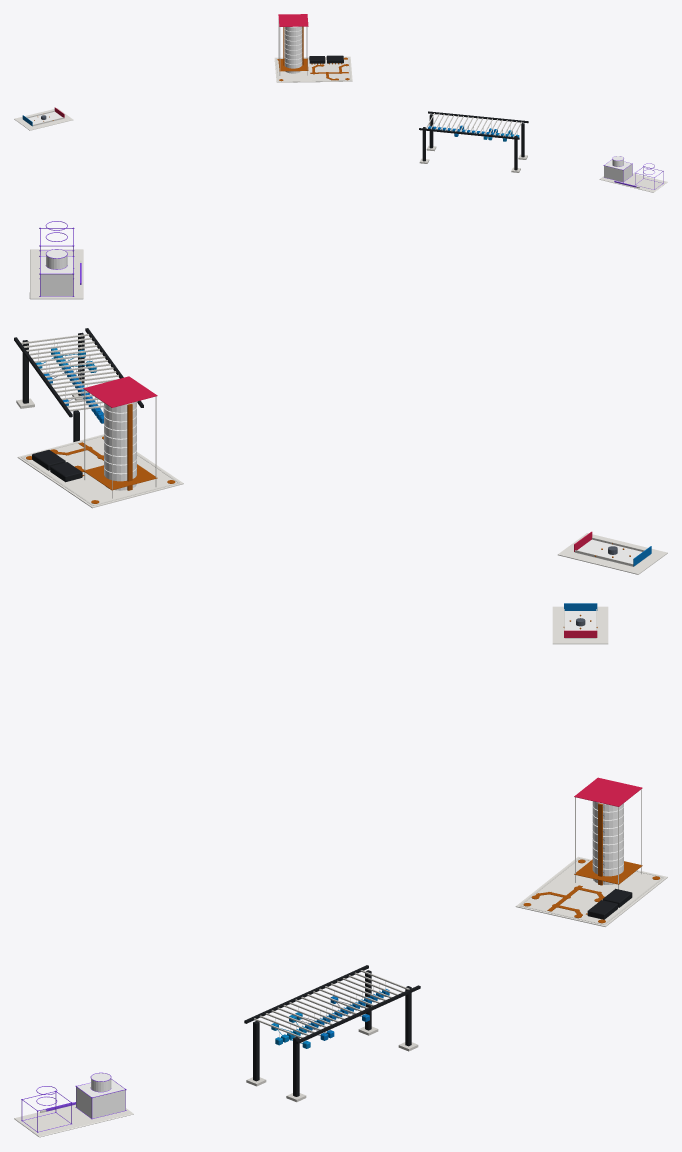
Rendered from fabrication.glb.
3 renders of one model, top to bottom at view 1: azimuth 30°, elevation 25°; view 2: azimuth 150°, elevation 25°; view 3: azimuth 270°, elevation 25°, orthographic. The views are drawn at different scales.
Size of the model in its own units: 253 by 52.56 by 167.
